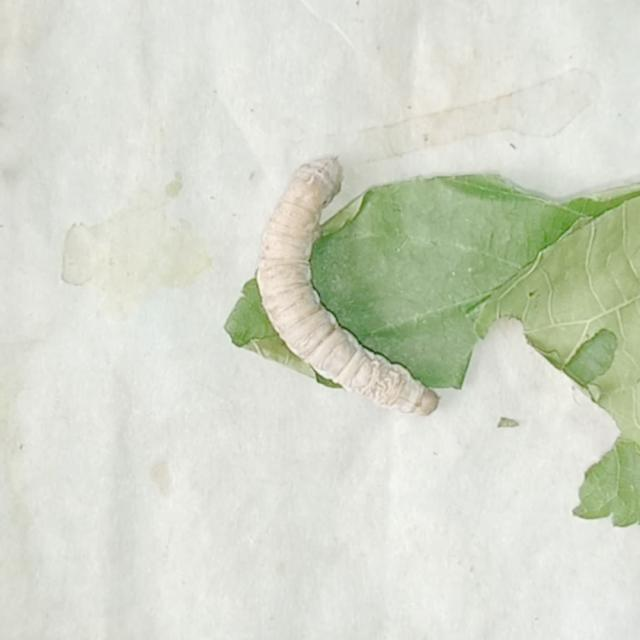Grasserie: (251, 140, 441, 422)
